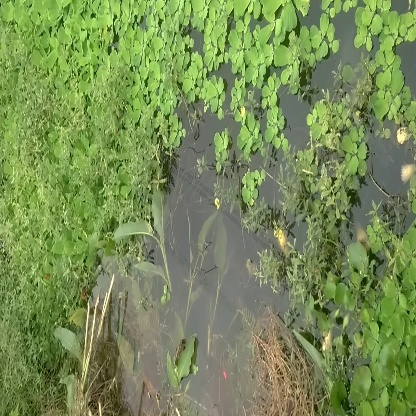leaf: (164, 333, 200, 390)
